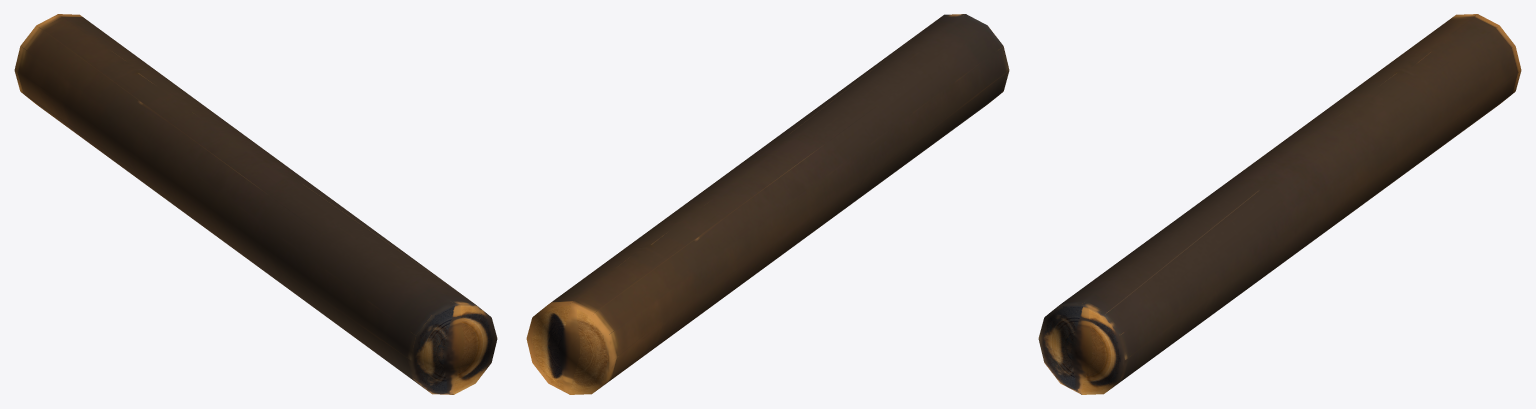
Rendered from SM_Laser_Canon.glb.
3 renders of one model, left to right at view 1: azimuth 30°, elevation 25°; view 2: azimuth 150°, elevation 25°; view 3: azimuth 330°, elevation 25°, orthographic.
Size of the model in its own units: 0.2545 by 0.2545 by 2.
Materials: 1 (1 with a texture image).
